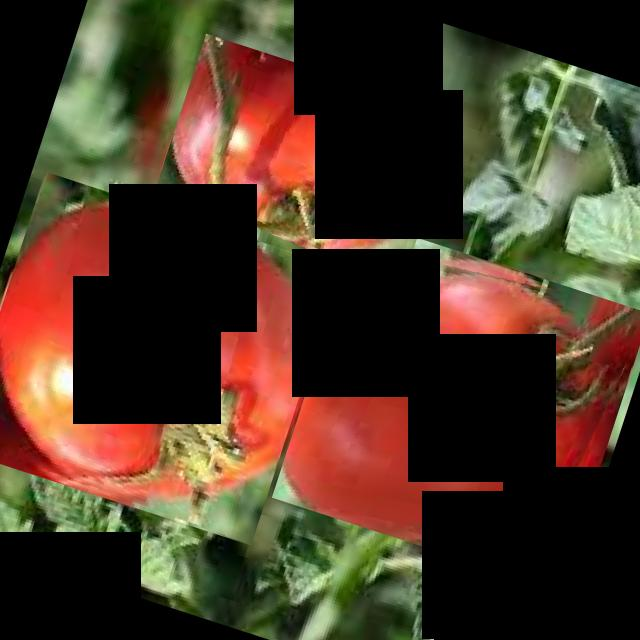tomatoes: (272, 219, 640, 591), (0, 172, 341, 546), (142, 34, 456, 308)
